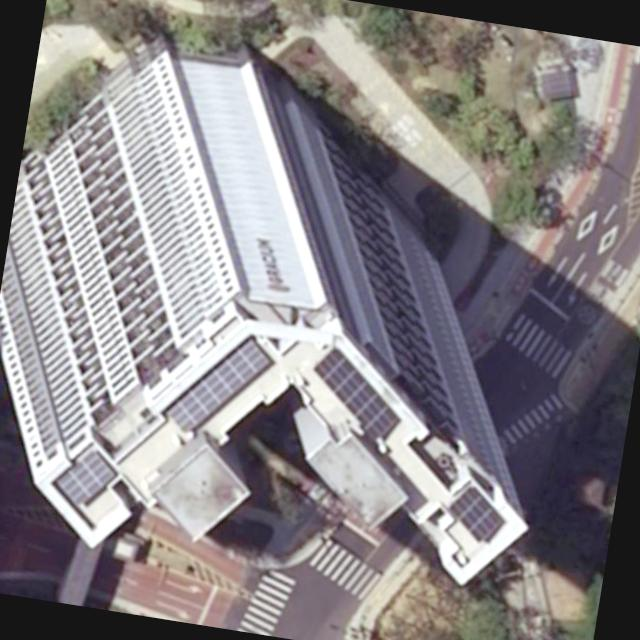solar: (157, 324, 280, 448), (300, 342, 412, 446), (49, 439, 122, 512), (447, 481, 512, 546)
